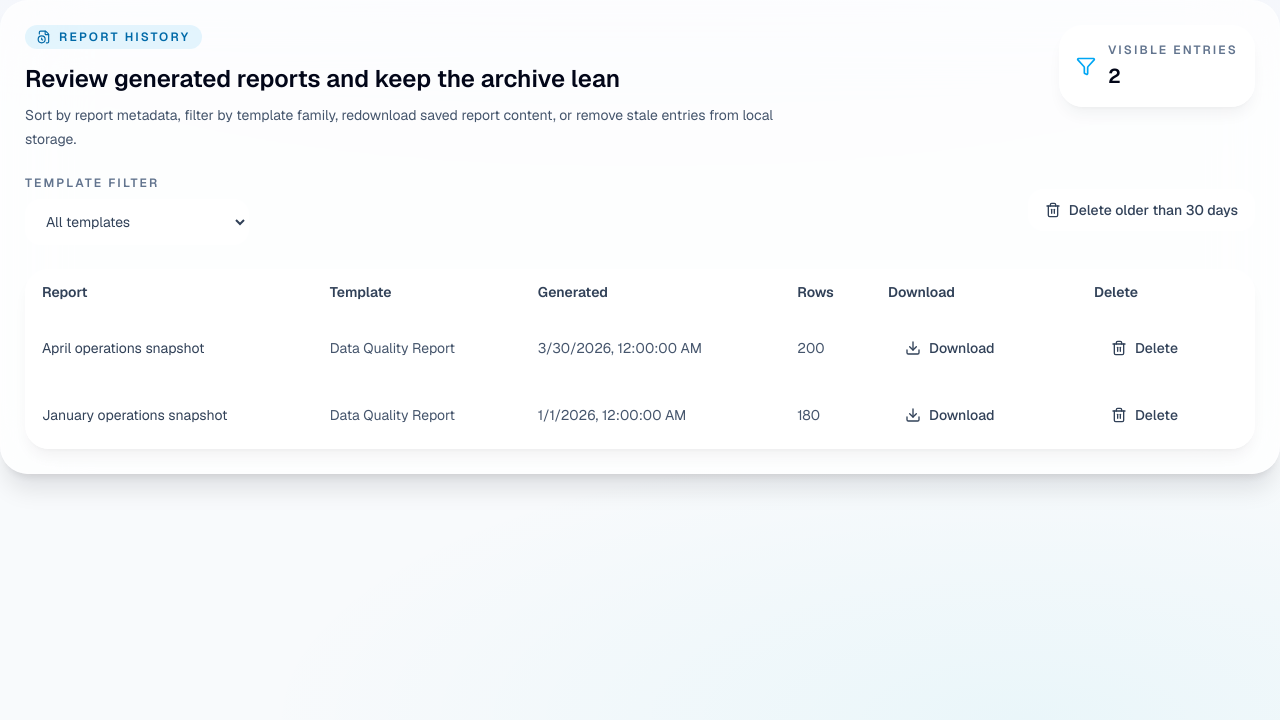
Test: ReportHistory › deletes reports older than 30 days from the archive
Click the button "Delete older than 30 days".
click(1141, 210)  # box [1028, 189, 1255, 231]
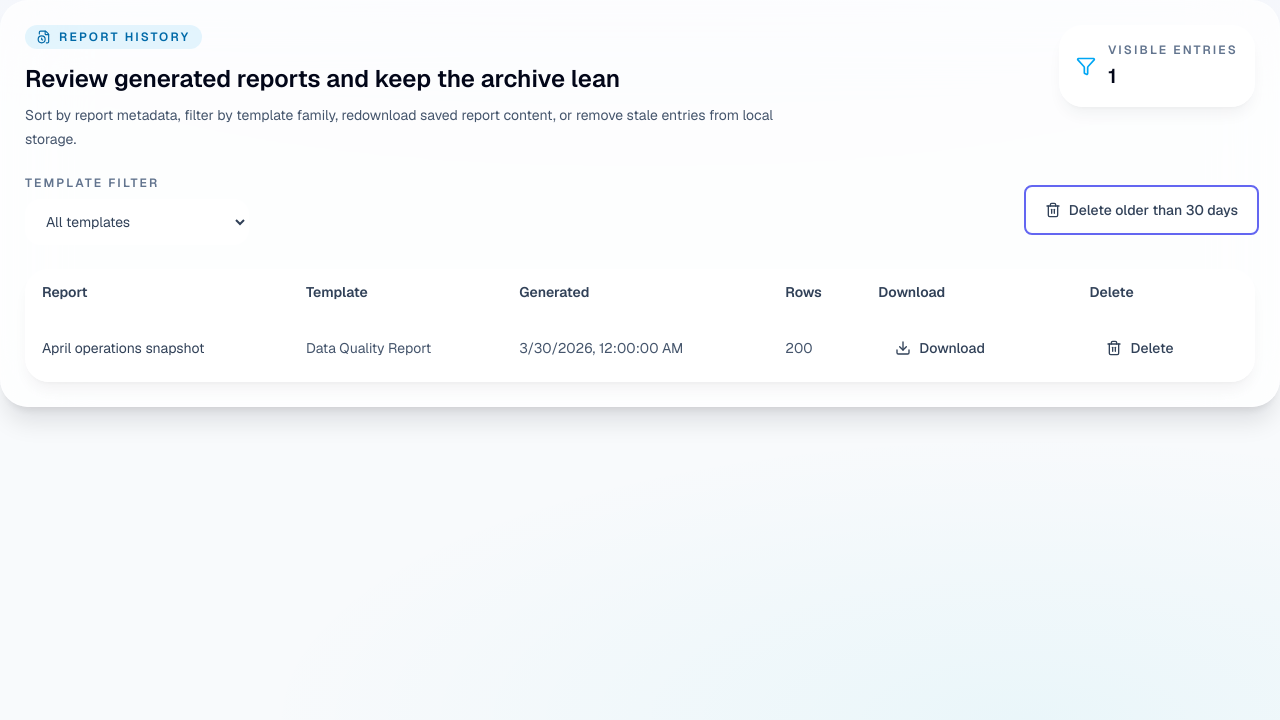
Expected: the text "April operations snapshot" is shown, [26, 314, 290, 381]
Expected: the text "January operations snapshot" is gone
